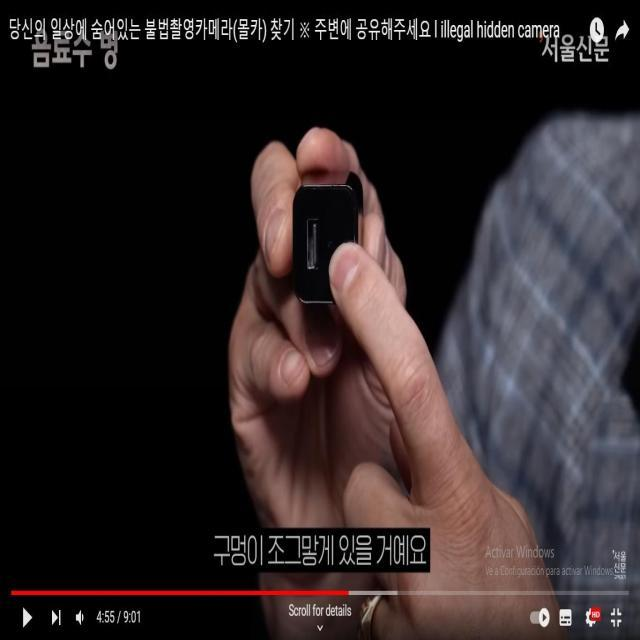hidden camera: (324, 225, 337, 257)
